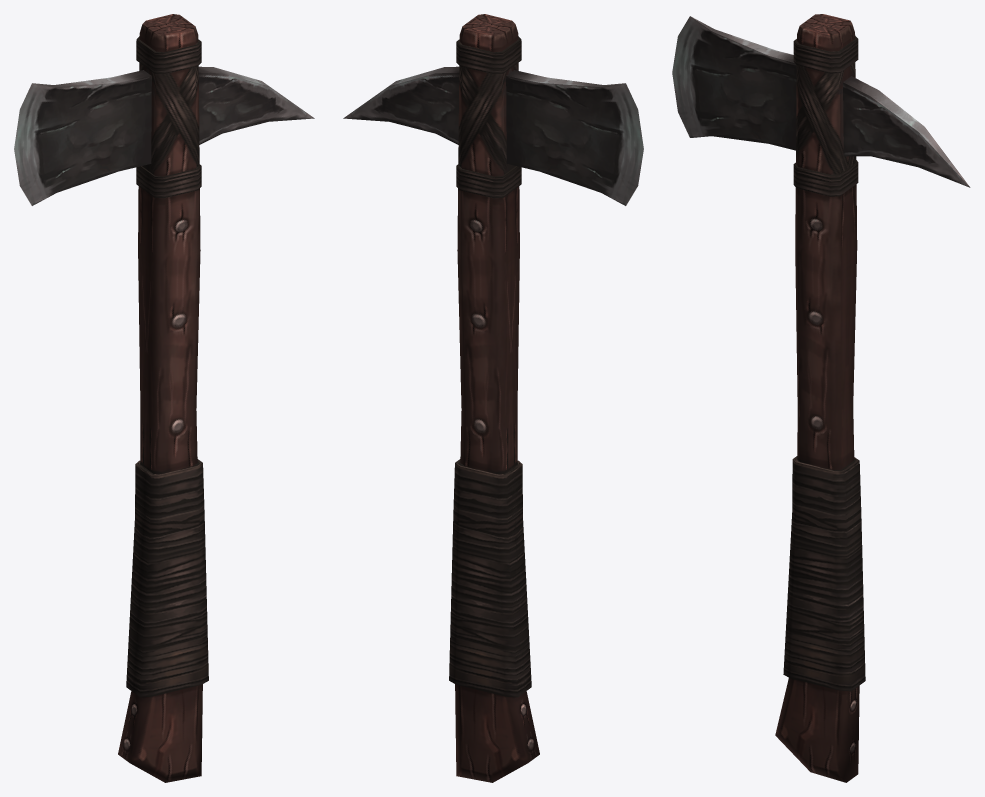
File: 84_weapon.FBX
3 renders of one model, left to right at view 1: azimuth 30°, elevation 25°; view 2: azimuth 150°, elevation 25°; view 3: azimuth 330°, elevation 25°, orthographic.
Visible parts, largest first — view 1: 84_weapon; view 2: 84_weapon; view 3: 84_weapon.
Boxes of the visible parts, x1,y1,x2,y2 form: 84_weapon: (14,14,314,782); 84_weapon: (343,14,643,782); 84_weapon: (672,14,970,782).
Size of the model in its own units: 911 by 2179 by 128.
